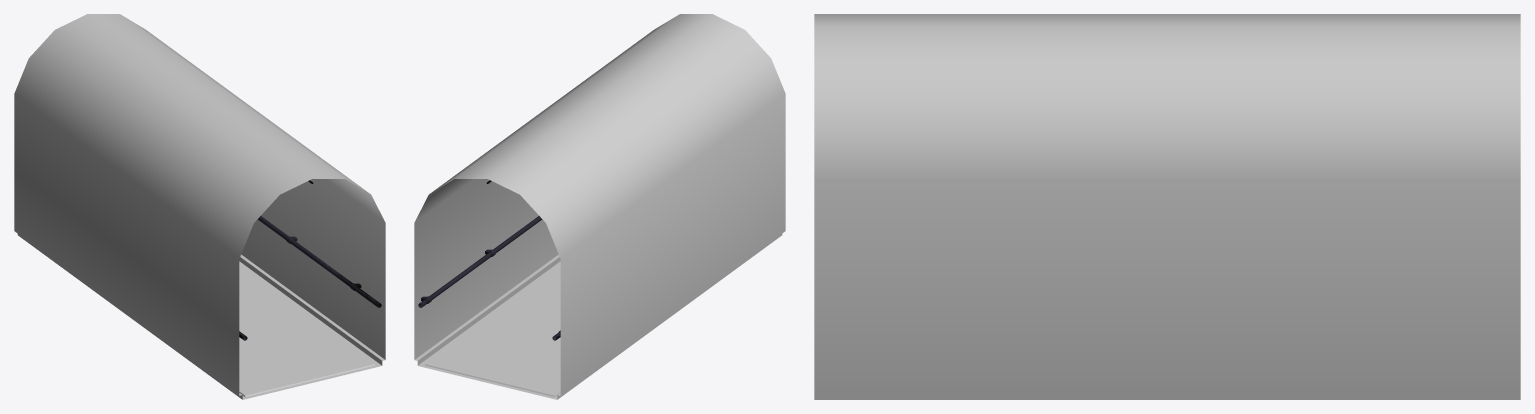
The model's file is section_Straight.fbx.
The picture shows the model from 3 angles, left to right: view 1: azimuth 30°, elevation 25°; view 2: azimuth 150°, elevation 25°; view 3: azimuth 270°, elevation 25°; orthographic projection. The views are drawn at different scales.
Parts seen in each view (by area): view 1: section_Straight; view 2: section_Straight; view 3: section_Straight.
Boxes of the visible parts, x1,y1,x2,y2 form: section_Straight: [14, 14, 385, 399]; section_Straight: [414, 14, 785, 399]; section_Straight: [814, 14, 1520, 399].
Bounding box in the file's own units: 300 × 400 × 800.
